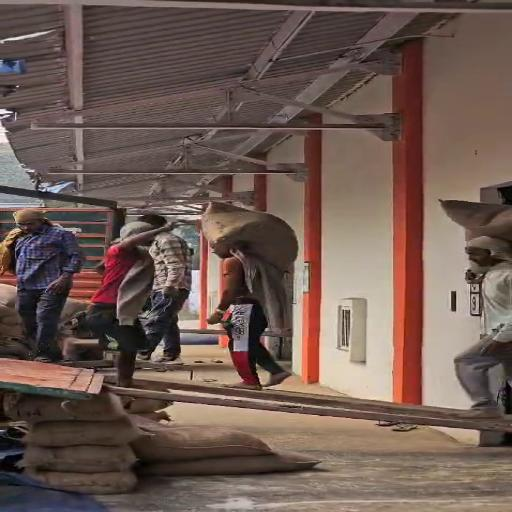bag: (198, 195, 304, 275)
